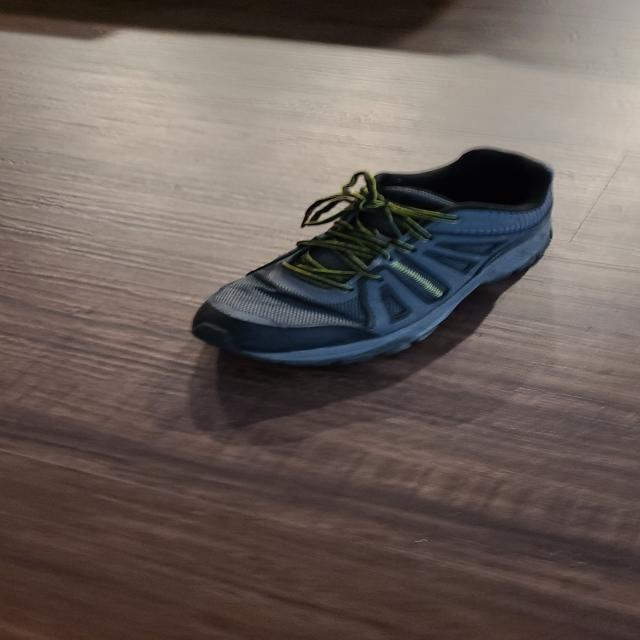shoes: (186, 144, 558, 367)
